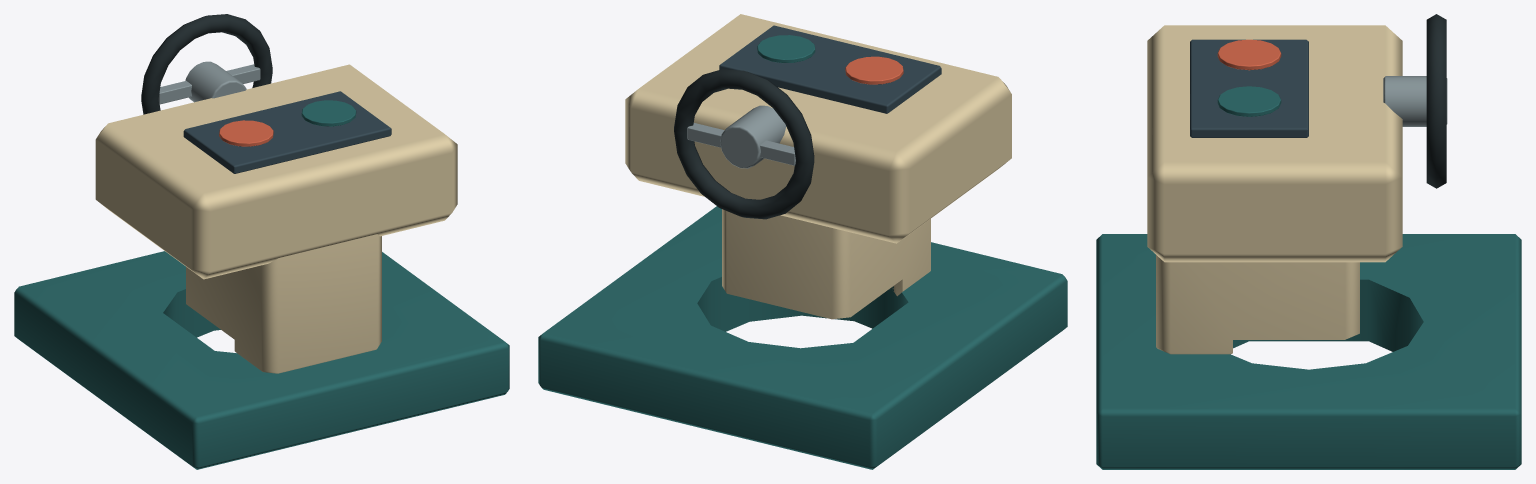
File: helm-lod-1.glb
3 views of the same model, side by side, from view 1: azimuth 30°, elevation 25°; view 2: azimuth 150°, elevation 25°; view 3: azimuth 270°, elevation 25° (orthographic). The views are drawn at different scales.
Visible parts, largest first — view 1: helm_lod_1; view 2: helm_lod_1; view 3: helm_lod_1.
Boxes of the visible parts, box(x1,y1,x2,y2) form: helm_lod_1: box(14, 14, 509, 469); helm_lod_1: box(538, 14, 1067, 469); helm_lod_1: box(1096, 14, 1521, 469).
Bounding box in the file's own units: 1 × 0.937 × 1.
